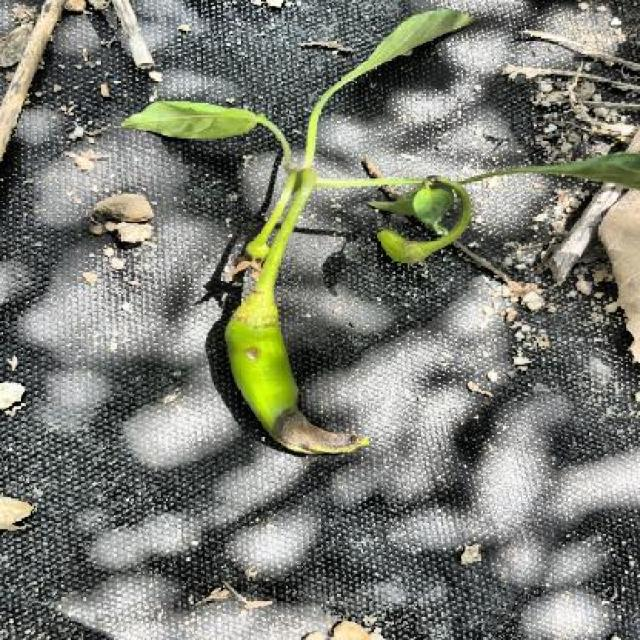Moko: (185, 205, 288, 349), (239, 363, 376, 468), (132, 91, 280, 174), (378, 204, 446, 315), (220, 318, 283, 392)
